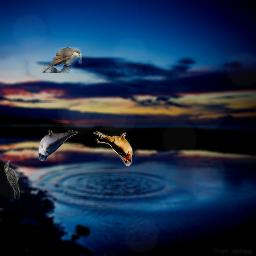Cuckoo: (42, 47, 82, 73)
Swallow: (93, 129, 133, 166), (38, 130, 78, 161)
Woodpecker: (4, 159, 20, 199)
